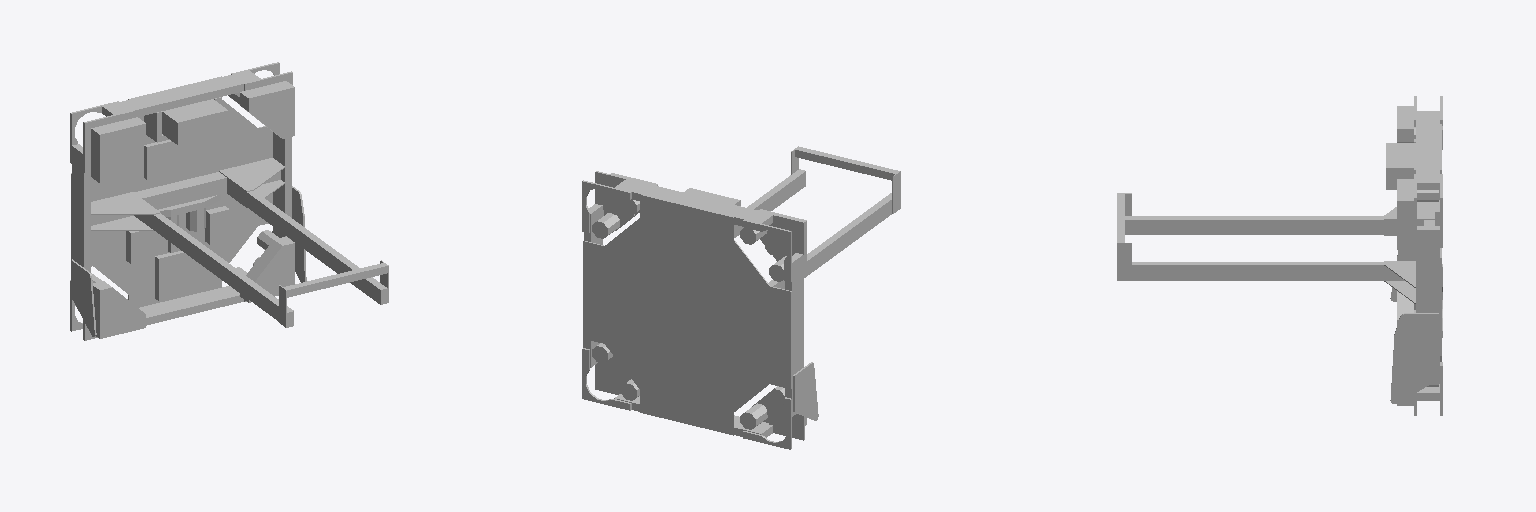
File: drivetrain.obj
The picture shows the model from 3 angles: view 1: azimuth 30°, elevation 25°; view 2: azimuth 150°, elevation 25°; view 3: azimuth 270°, elevation 25°; orthographic projection.
Parts seen in each view (by area): view 1: mesh342, mesh231, mesh88, mesh201, mesh80, mesh236, mesh157, mesh134, mesh211, mesh217, mesh347, mesh29 (+20 smaller); view 2: mesh175, mesh201, mesh157, mesh80, mesh173, mesh146, mesh21, mesh199, mesh123, mesh67, mesh88, mesh75 (+4 smaller); view 3: mesh58, mesh90, mesh46, mesh182, mesh201, mesh75, mesh214, mesh62, mesh240, mesh60.
Boxes of the visible parts, x1,y1,x2,y2 form: mesh342: [91, 193, 272, 307]; mesh231: [91, 97, 272, 201]; mesh88: [219, 171, 380, 304]; mesh201: [71, 62, 292, 122]; mesh80: [134, 215, 278, 321]; mesh236: [147, 137, 210, 179]; mesh157: [70, 113, 84, 331]; mesh134: [100, 287, 145, 338]; mesh211: [100, 124, 145, 182]; mesh217: [249, 87, 294, 138]; mesh347: [159, 253, 199, 300]; mesh29: [249, 243, 294, 302]; mesh175: [583, 195, 790, 435]; mesh201: [583, 171, 803, 231]; mesh157: [791, 222, 804, 448]; mesh80: [773, 200, 891, 288]; mesh173: [765, 215, 803, 255]; mesh146: [795, 363, 818, 420]; mesh21: [595, 356, 630, 394]; mesh199: [595, 172, 633, 219]; mesh123: [765, 392, 803, 440]; mesh67: [795, 150, 894, 180]; mesh88: [734, 171, 805, 237]; mesh75: [768, 193, 891, 286]; mesh58: [1132, 265, 1404, 280]; mesh90: [1125, 219, 1434, 235]; mesh46: [1391, 314, 1438, 403]; mesh182: [1414, 198, 1442, 415]; mesh201: [1414, 96, 1442, 197]; mesh75: [1125, 216, 1383, 219]; mesh214: [1397, 201, 1413, 249]; mesh62: [1132, 262, 1383, 264]; mesh240: [1386, 143, 1415, 167]; mesh60: [1117, 243, 1131, 280].
Bounding box in the file's own units: 0.7493 × 0.7366 × 0.9985.